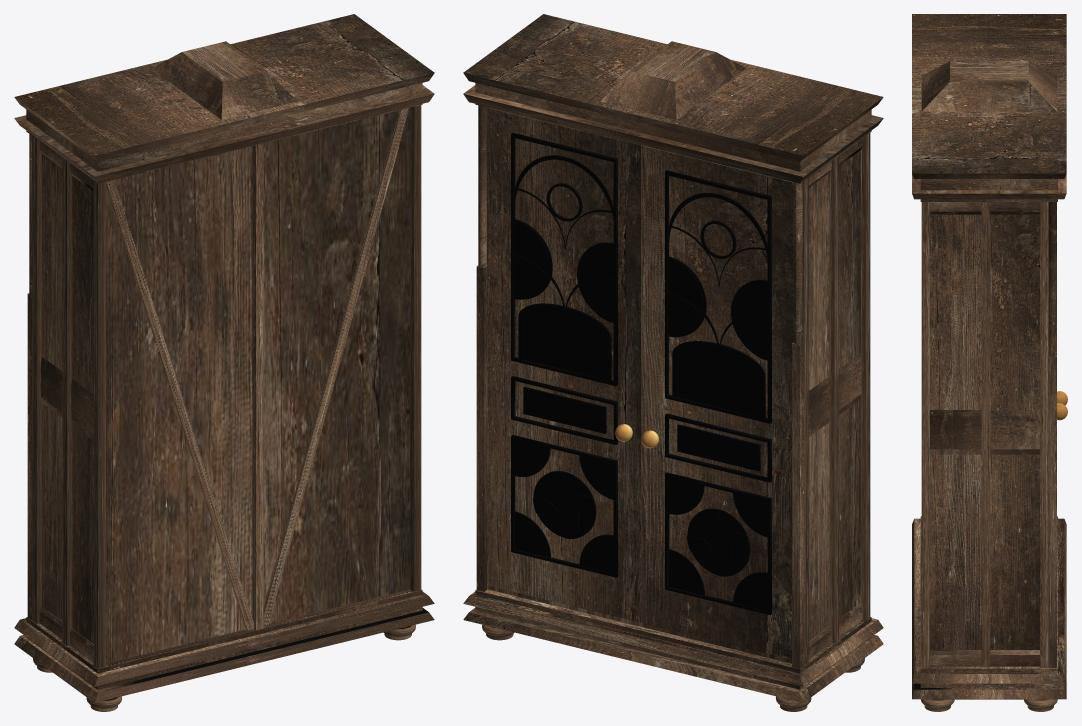
Rendered from ArmoireVictorienneKOT_V1.fbx.
The picture shows the model from 3 angles, left to right: view 1: azimuth 30°, elevation 25°; view 2: azimuth 150°, elevation 25°; view 3: azimuth 270°, elevation 25°; orthographic projection. The views are drawn at different scales.
Parts seen in each view (by area): view 1: Intérieur_Armoire, Cloison_Droite, Toit_angle_inférieur, Bar_Arriere_Droite.003, Déco_inférieur_base, Top_angle_supérieur, Cloison Guahce, Bar_Avant_Droite_Ronde, Pied_Avant_Droit; view 2: Porte_Gauche, Porte_Droite, Cloison_Droite, Toit_angle_inférieur, Déco_inférieur_base, Top_angle_supérieur, Bar_Avant_Droite_Ronde, Bar_Avant_Gauche_Ronde, Intérieur_Armoire, Pied_Avant_Droit; view 3: Cloison Guahce, Toit_angle_inférieur, Déco_inférieur_base, Top_angle_supérieur, Bar_Avant_Gauche_Ronde, Pied_Avant_Droit.
Boxes of the visible parts, bbox=[...] form: Intérieur_Armoire: bbox=[106, 108, 409, 663]; Cloison_Droite: bbox=[32, 136, 105, 668]; Toit_angle_inférieur: bbox=[14, 14, 434, 183]; Bar_Arriere_Droite.003: bbox=[106, 108, 409, 630]; Déco_inférieur_base: bbox=[14, 589, 434, 702]; Top_angle_supérieur: bbox=[151, 41, 297, 119]; Cloison Guahce: bbox=[410, 105, 421, 591]; Bar_Avant_Droite_Ronde: bbox=[27, 134, 31, 620]; Pied_Avant_Droit: bbox=[33, 624, 415, 711]; Porte_Gauche: bbox=[487, 108, 641, 622]; Porte_Droite: bbox=[641, 145, 793, 659]; Cloison_Droite: bbox=[802, 133, 870, 665]; Toit_angle_inférieur: bbox=[463, 14, 883, 183]; Déco_inférieur_base: bbox=[463, 589, 883, 702]; Top_angle_supérieur: bbox=[600, 41, 746, 119]; Bar_Avant_Droite_Ronde: bbox=[792, 182, 804, 668]; Bar_Avant_Gauche_Ronde: bbox=[476, 105, 487, 591]; Intérieur_Armoire: bbox=[487, 107, 791, 663]; Pied_Avant_Droit: bbox=[482, 624, 864, 711]; Cloison Guahce: bbox=[921, 202, 1048, 667]; Toit_angle_inférieur: bbox=[912, 14, 1066, 201]; Déco_inférieur_base: bbox=[912, 516, 1066, 699]; Top_angle_supérieur: bbox=[921, 61, 1056, 111]; Bar_Avant_Gauche_Ronde: bbox=[1048, 202, 1056, 667]; Pied_Avant_Droit: bbox=[921, 699, 1057, 711].
Size of the model in its own units: 220 by 364 by 90.8.
